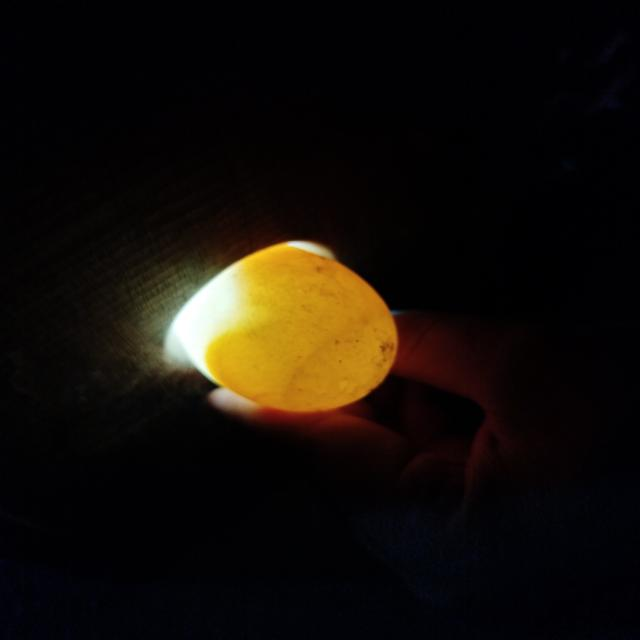Camara de Ar: (284, 335, 397, 412)
